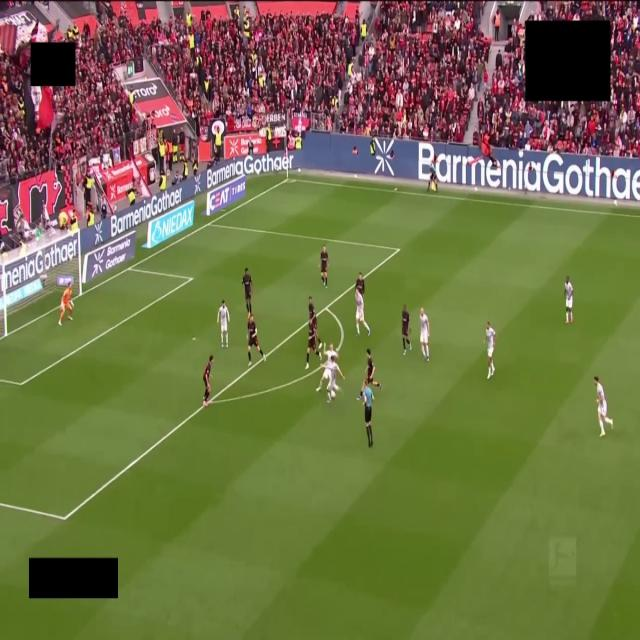ball: (330, 391, 335, 398)
player: (357, 349, 381, 399), (594, 376, 613, 437), (323, 356, 344, 402), (248, 314, 266, 366), (306, 318, 321, 368), (355, 288, 370, 335), (309, 296, 322, 349), (485, 322, 496, 379), (419, 308, 430, 362), (217, 300, 229, 348), (59, 285, 73, 326), (203, 355, 214, 407), (242, 268, 252, 316), (402, 304, 411, 354), (565, 276, 573, 323), (316, 367, 330, 391), (320, 246, 328, 287), (355, 272, 364, 296)
referee: (362, 384, 374, 447)
